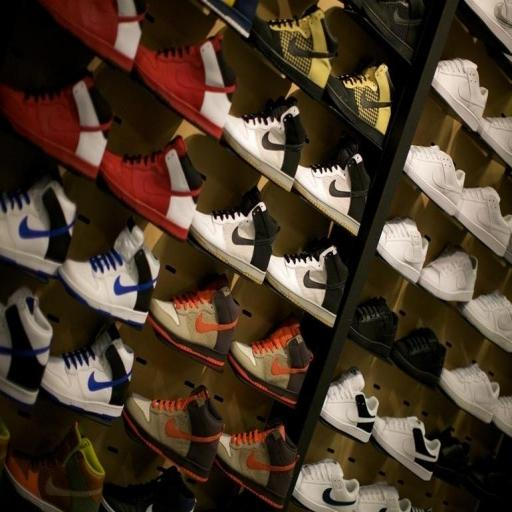shoe: (0, 76, 113, 179), (58, 218, 160, 326), (100, 136, 203, 240), (134, 34, 236, 139), (122, 386, 225, 482), (40, 323, 134, 420), (5, 423, 105, 512), (148, 274, 240, 369), (190, 186, 279, 284), (250, 4, 338, 99), (223, 96, 306, 191), (39, 0, 147, 71), (228, 316, 312, 407), (294, 136, 370, 235), (0, 178, 76, 276), (215, 424, 298, 509), (265, 245, 348, 327), (0, 288, 53, 405), (326, 64, 394, 145), (346, 0, 425, 61), (478, 27, 512, 167), (372, 416, 441, 481), (101, 466, 197, 512), (321, 367, 379, 442), (404, 145, 464, 215), (432, 58, 488, 132), (455, 186, 512, 256), (292, 459, 360, 512), (439, 363, 499, 423), (377, 217, 428, 283), (418, 246, 478, 302), (390, 328, 446, 387), (459, 290, 512, 352), (348, 297, 398, 358), (462, 456, 512, 508), (465, 0, 512, 52), (432, 427, 470, 486), (200, 0, 258, 38), (355, 482, 412, 512), (494, 0, 512, 52), (492, 396, 512, 437), (0, 418, 10, 477), (503, 234, 512, 265)
